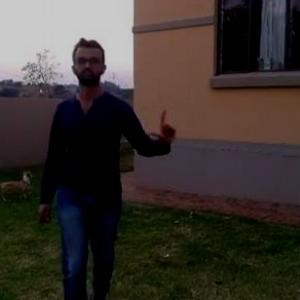land_hand: (148, 106, 182, 146)
